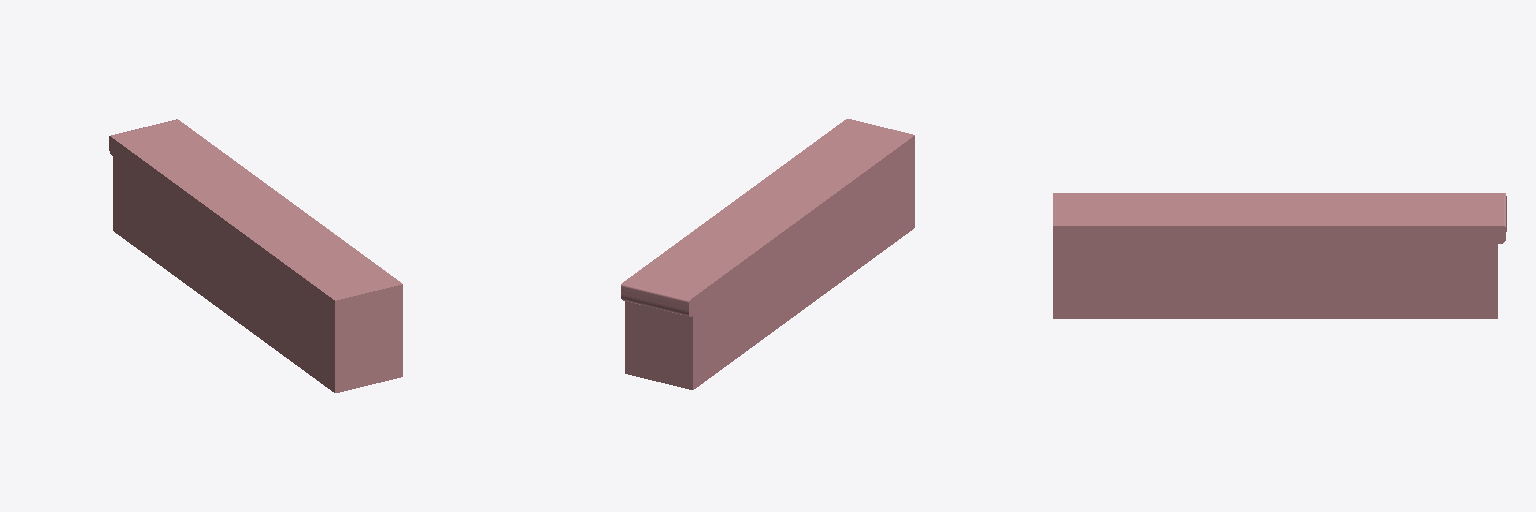
File: bianco.obj
3 views of the same model, side by side, from view 1: azimuth 30°, elevation 25°; view 2: azimuth 150°, elevation 25°; view 3: azimuth 270°, elevation 25° (orthographic).
Parts seen in each view (by area): view 1: AAA_-_BIANCHI_ISOLATI.001_Tasti_Bianchi_Cube.003; view 2: AAA_-_BIANCHI_ISOLATI.001_Tasti_Bianchi_Cube.003; view 3: AAA_-_BIANCHI_ISOLATI.001_Tasti_Bianchi_Cube.003.
Part boxes in pixels (x1,y1,x2,y2): AAA_-_BIANCHI_ISOLATI.001_Tasti_Bianchi_Cube.003: (109, 119, 402, 392); AAA_-_BIANCHI_ISOLATI.001_Tasti_Bianchi_Cube.003: (621, 119, 914, 389); AAA_-_BIANCHI_ISOLATI.001_Tasti_Bianchi_Cube.003: (1053, 193, 1506, 318).
Bounding box in the file's own units: 0.0328 × 0.0426 × 0.1887.